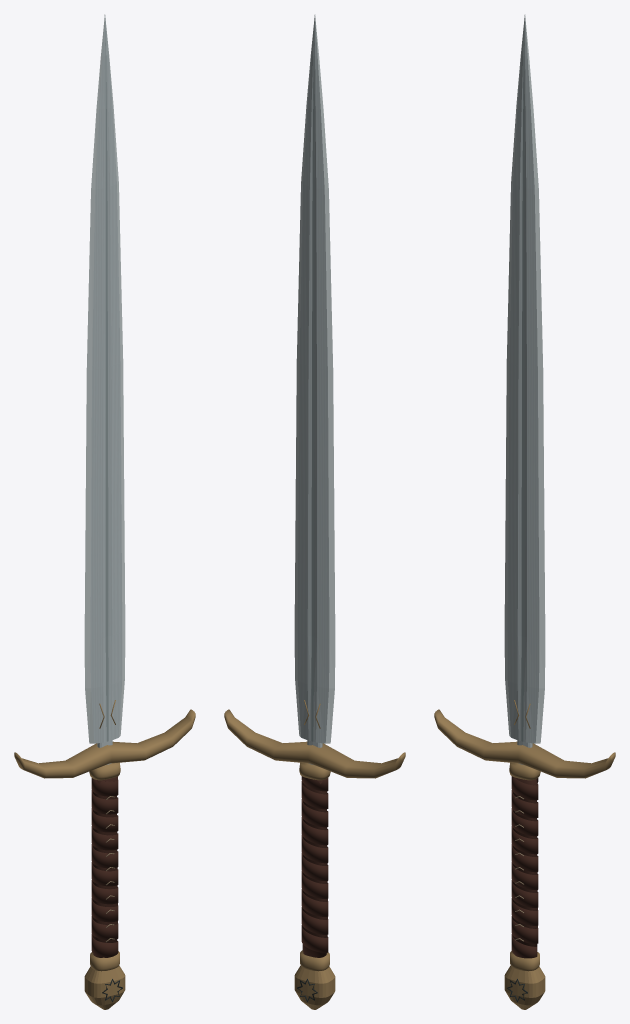
File: sword_lod0.glb
3 renders of one model, left to right at view 1: azimuth 30°, elevation 25°; view 2: azimuth 150°, elevation 25°; view 3: azimuth 330°, elevation 25°, orthographic.
Visible parts, largest first — view 1: SwordMesh_LOD0; view 2: SwordMesh_LOD0; view 3: SwordMesh_LOD0.
Boxes of the visible parts, x1=… form: SwordMesh_LOD0: x1=14, y1=14, x2=195, y2=1009; SwordMesh_LOD0: x1=224, y1=14, x2=405, y2=1009; SwordMesh_LOD0: x1=434, y1=14, x2=615, y2=1009.
Size of the model in its own units: 0.246 by 1.33 by 0.0384.
7 materials, 3 textured.
